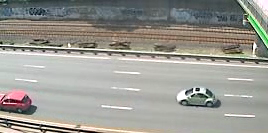car: (172, 84, 219, 110), (1, 88, 37, 114)
